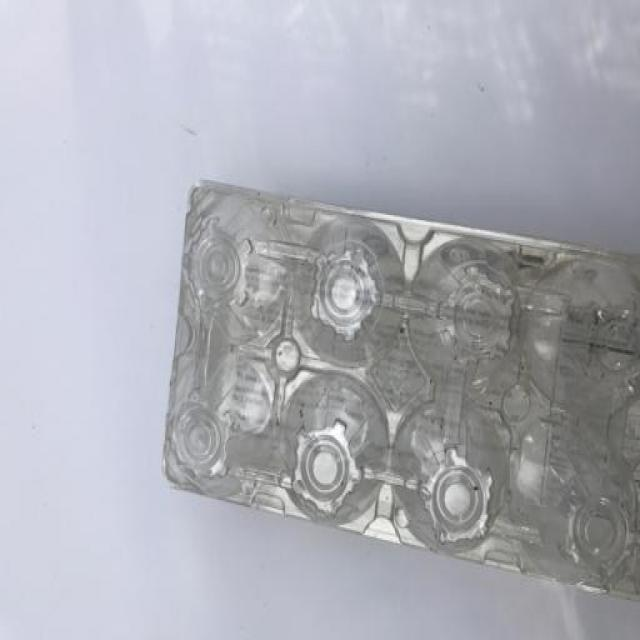plastic: (158, 160, 640, 640)
